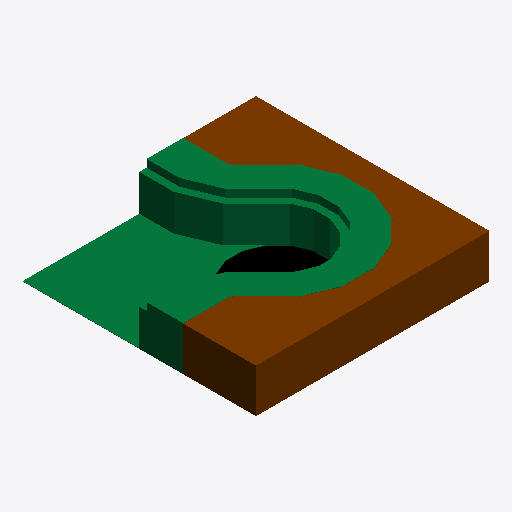
A Minecraft block model of 42 cuboids, rendered isometrically (azimuth 45°, elevation 35.3°) with the resource pack's own textures.
Visible parts, largest first — element 41, element 39, element 1, element 40, element 42, element 2, element 18, element 17, element 4, element 3, element 36, element 38 (+15 smaller).
Boxes of the visible parts, <box> form: element 41: <box>263,201,488,374</box>; element 39: <box>183,296,328,415</box>; element 1: <box>23,239,163,354</box>; element 40: <box>184,96,317,164</box>; element 42: <box>266,130,444,234</box>; element 2: <box>96,214,226,280</box>; element 18: <box>223,198,289,245</box>; element 17: <box>174,186,226,244</box>; element 4: <box>161,283,227,373</box>; element 3: <box>216,246,327,273</box>; element 36: <box>225,165,303,197</box>; element 38: <box>139,168,176,232</box>.
Bounding box in the file's own units: 16 × 3.02 × 16.